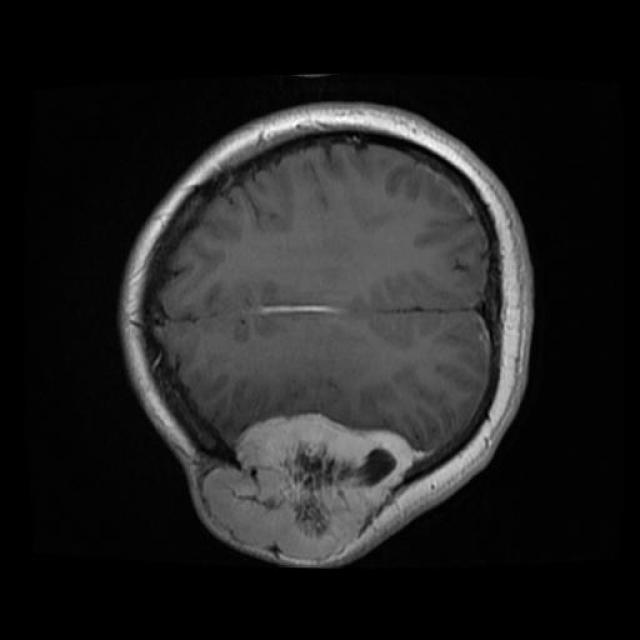Meningioma: (201, 413, 415, 560)
